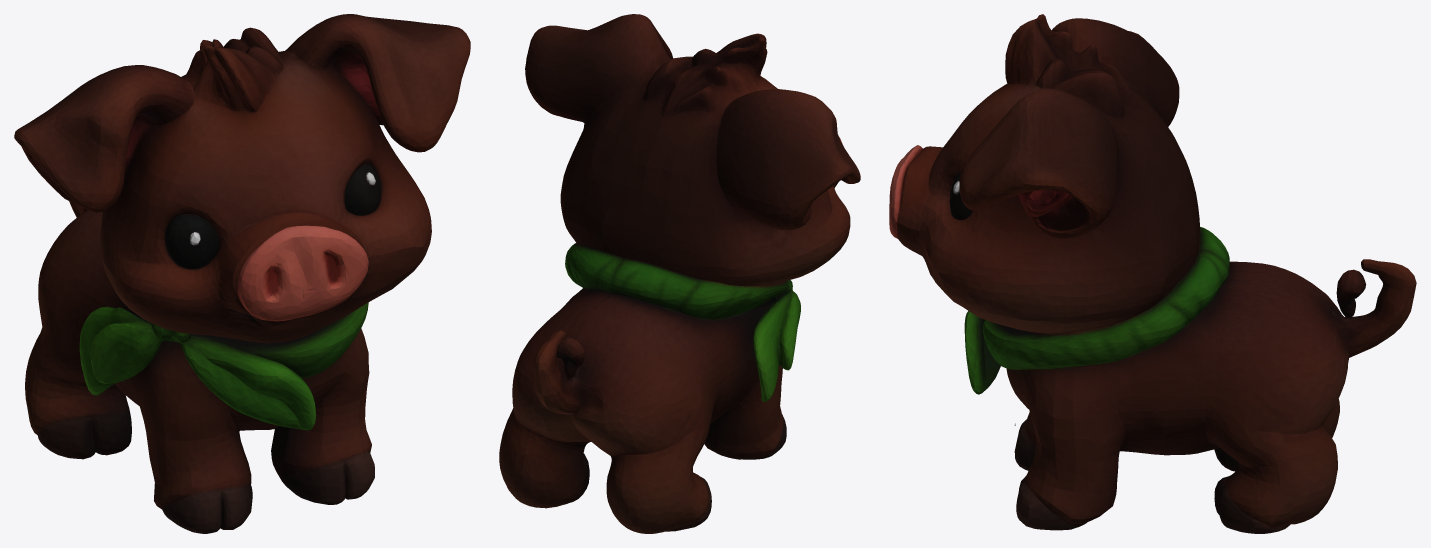
File: trufflet_raw.glb
3 renders of one model, left to right at view 1: azimuth 30°, elevation 25°; view 2: azimuth 150°, elevation 25°; view 3: azimuth 270°, elevation 25°, orthographic. The views are drawn at different scales.
Parts seen in each view (by area): view 1: world; view 2: world; view 3: world.
Boxes of the visible parts, <box> form: world: <box>14,14,470,533</box>; world: <box>499,14,860,533</box>; world: <box>889,14,1416,533</box>.
Bounding box in the file's own units: 0.8239 × 0.9366 × 0.9972.
1 material, 1 textured.
